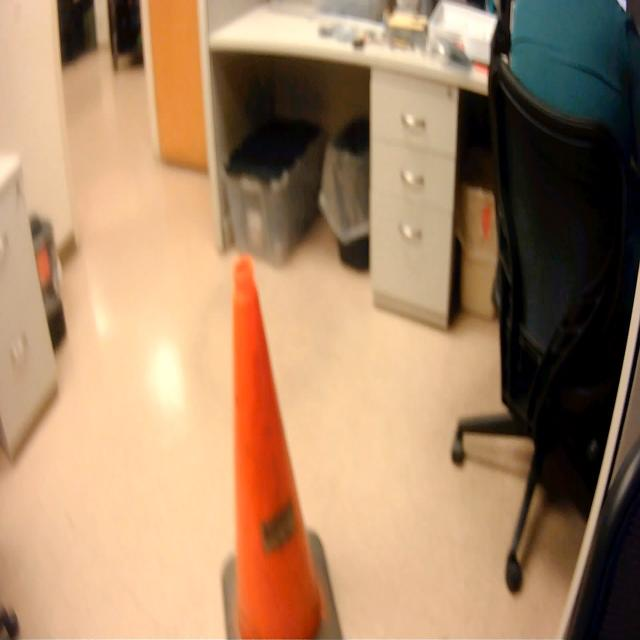traffic cone: (216, 247, 350, 640)
